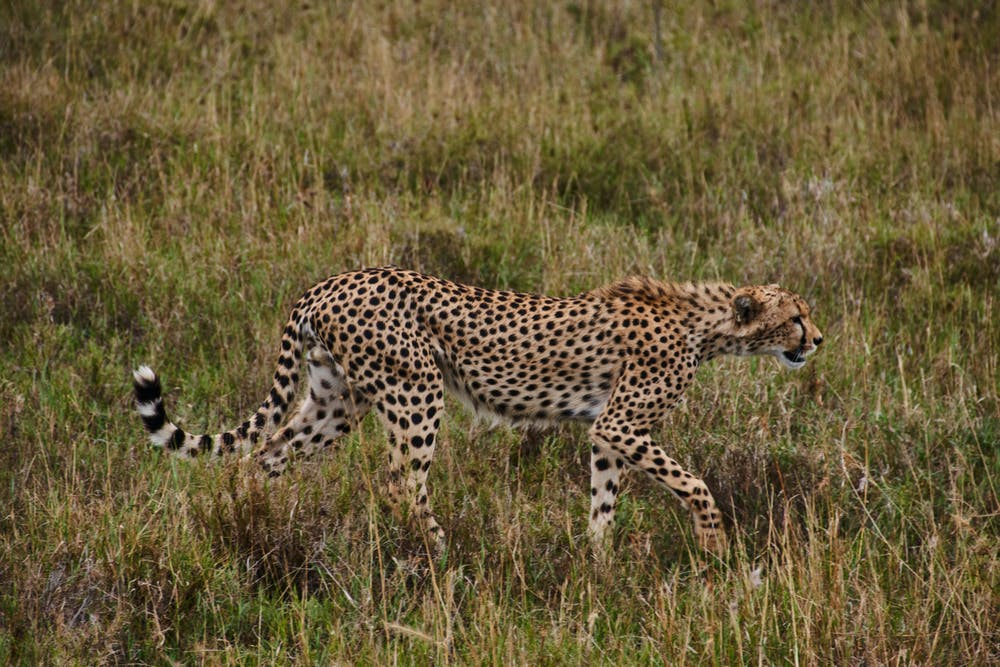cheetah: (721, 273, 830, 379)
